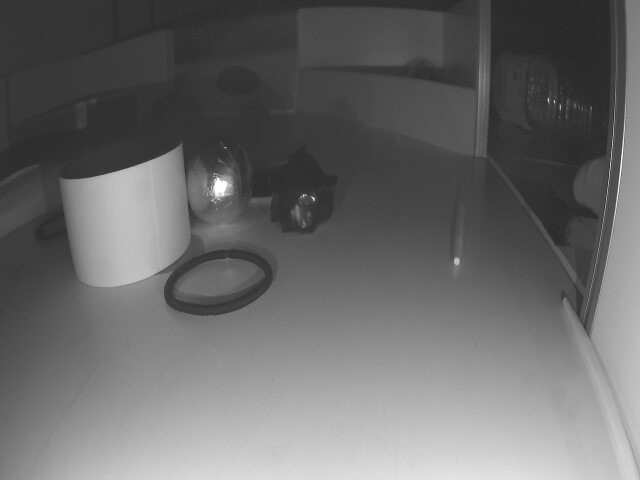Dead: (273, 150, 330, 238)
Live: (184, 140, 253, 225)
Point: (305, 66, 471, 158), (12, 81, 165, 160)
